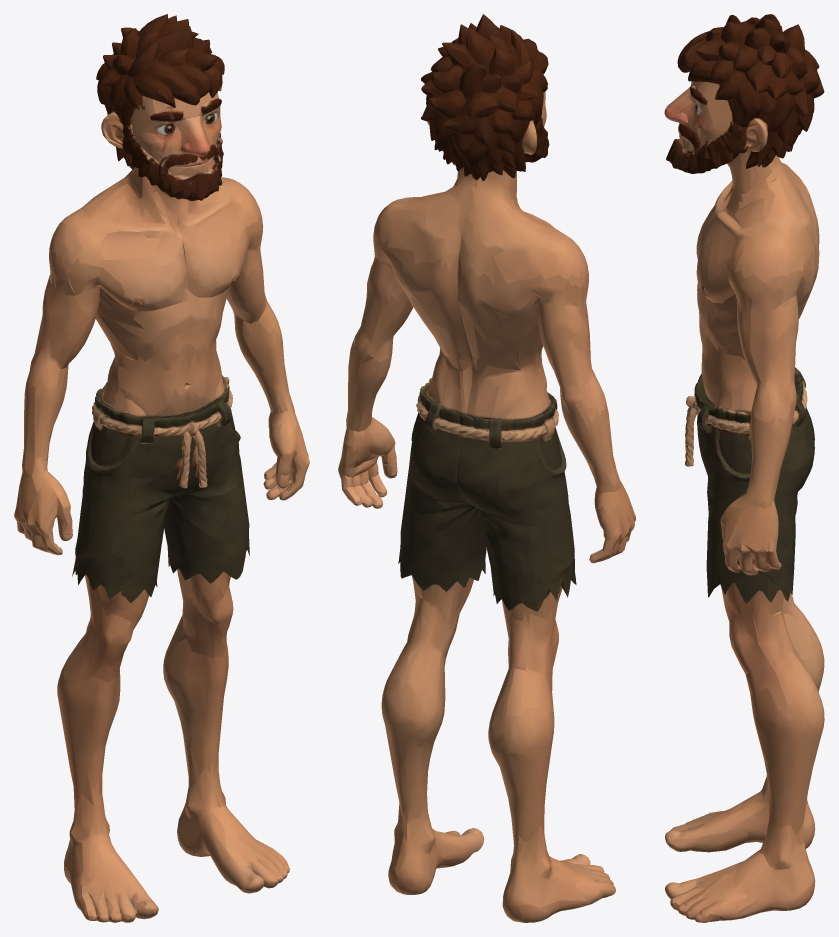
Rendered from Meshy_AI_Wild_Wanderer_1016142901_texture.fbx.
The picture shows the model from 3 angles, left to right: view 1: azimuth 30°, elevation 25°; view 2: azimuth 150°, elevation 25°; view 3: azimuth 270°, elevation 25°; orthographic projection.
Parts seen in each view (by area): view 1: output_unwrapped; view 2: output_unwrapped; view 3: output_unwrapped.
Boxes of the visible parts, x1,y1,x2,y2 form: output_unwrapped: [14, 14, 309, 922]; output_unwrapped: [338, 14, 635, 922]; output_unwrapped: [664, 14, 824, 922].
Bounding box in the file's own units: 65.67 × 190 × 32.
1 material, 1 textured.
